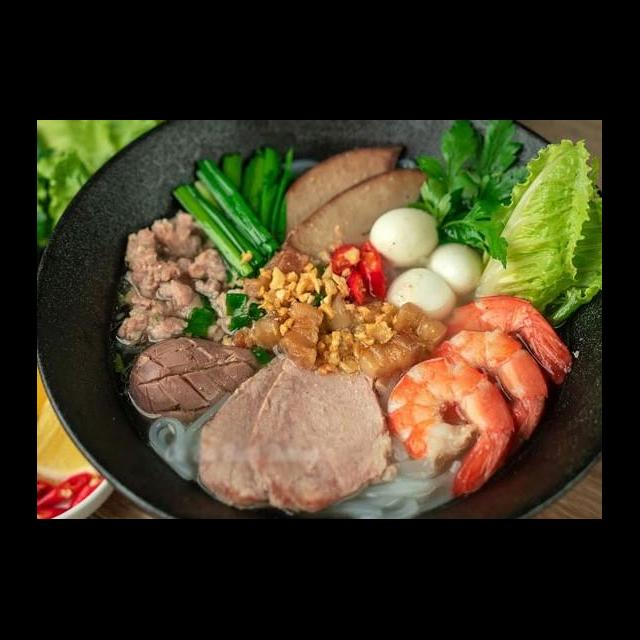banh hu tieu: (142, 388, 235, 486), (343, 456, 478, 520)
gan: (268, 165, 434, 284), (268, 140, 412, 252)
hu tieu: (59, 140, 602, 520)
thit bam: (112, 204, 250, 350)
thit heo: (246, 346, 404, 520), (192, 344, 314, 514)
tom: (424, 294, 576, 436), (382, 352, 518, 502), (424, 322, 552, 462)
trung: (368, 202, 444, 270), (384, 264, 460, 326), (426, 240, 486, 298)
